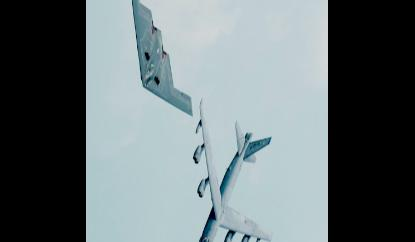B1: (127, 0, 195, 117)
B2: (193, 97, 275, 241)
